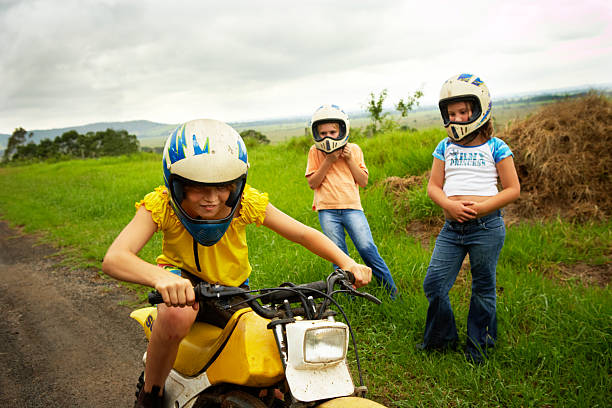helmet: (162, 119, 248, 248), (436, 73, 494, 140), (310, 104, 351, 153)
person: (101, 104, 262, 306), (421, 71, 517, 369), (300, 102, 383, 291)
